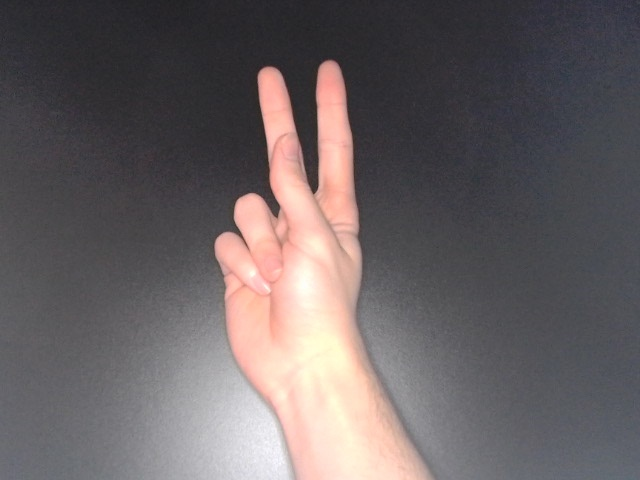k: (204, 56, 370, 431)
